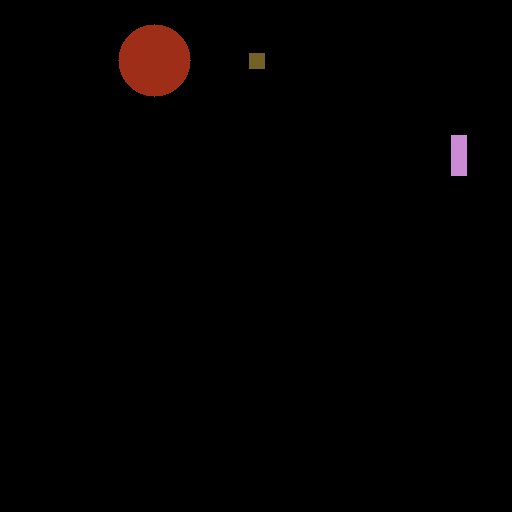circle: (119, 24, 191, 96)
square: (248, 51, 266, 70)
up_rect: (448, 131, 471, 179)
